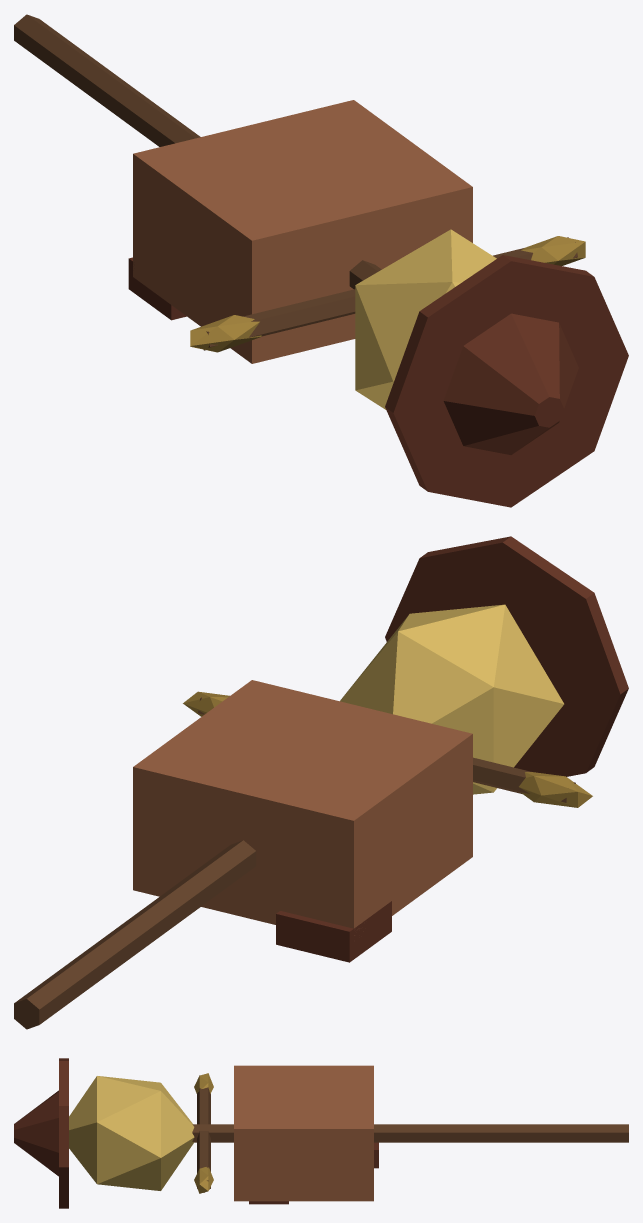
The model's file is scarecrow.obj.
3 renders of one model, top to bottom at view 1: azimuth 30°, elevation 25°; view 2: azimuth 150°, elevation 25°; view 3: azimuth 270°, elevation 25°, orthographic. The views are drawn at different scales.
Visible parts, largest first — view 1: scarecrow; view 2: scarecrow; view 3: scarecrow.
Part boxes in pixels (bbox=[...]): scarecrow: bbox=[14, 14, 628, 507]; scarecrow: bbox=[14, 536, 628, 1029]; scarecrow: bbox=[14, 1058, 628, 1208].
Size of the model in its own units: 0.5473 by 0.32 by 1.23.
